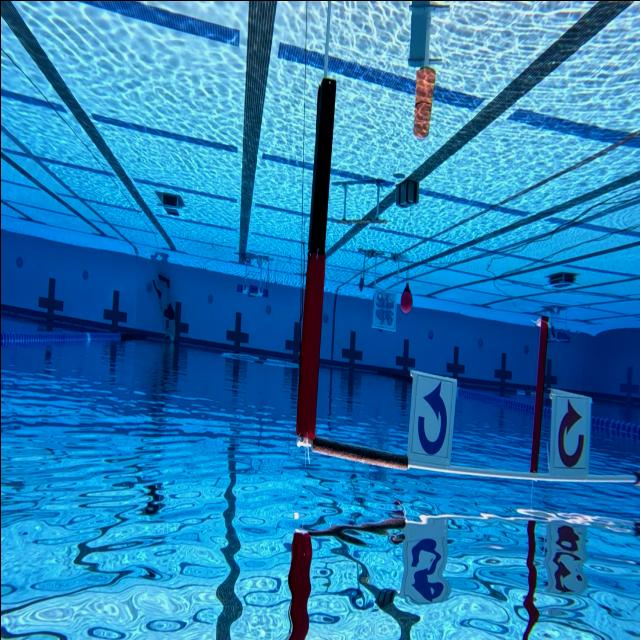blue_side: (404, 370, 456, 470)
red_side: (544, 386, 592, 481)
